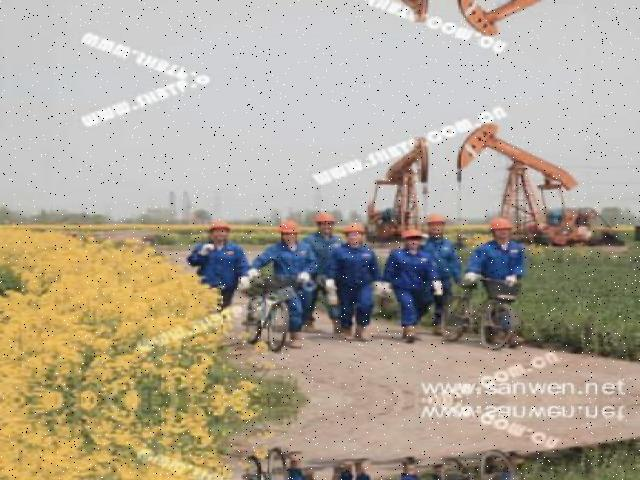Helmet: (483, 212, 512, 240), (202, 214, 233, 240), (392, 224, 424, 246), (269, 214, 300, 236), (306, 206, 336, 228), (334, 217, 368, 236), (419, 211, 447, 231)
